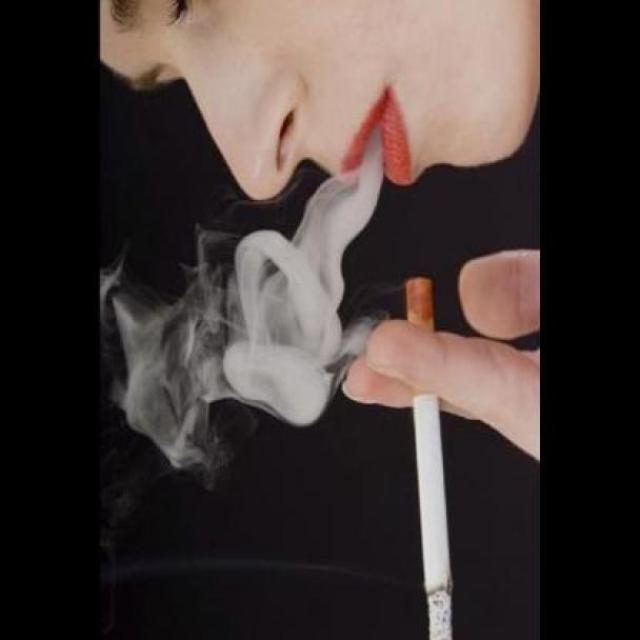rokok: (399, 272, 461, 640)
